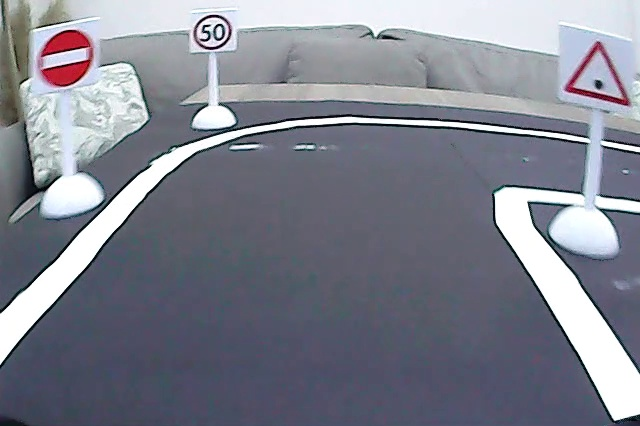do not enter: (36, 26, 96, 91)
green light: (560, 36, 636, 109)
speed limit 50: (191, 12, 234, 53)
